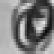correct: (5, 0, 54, 51)
